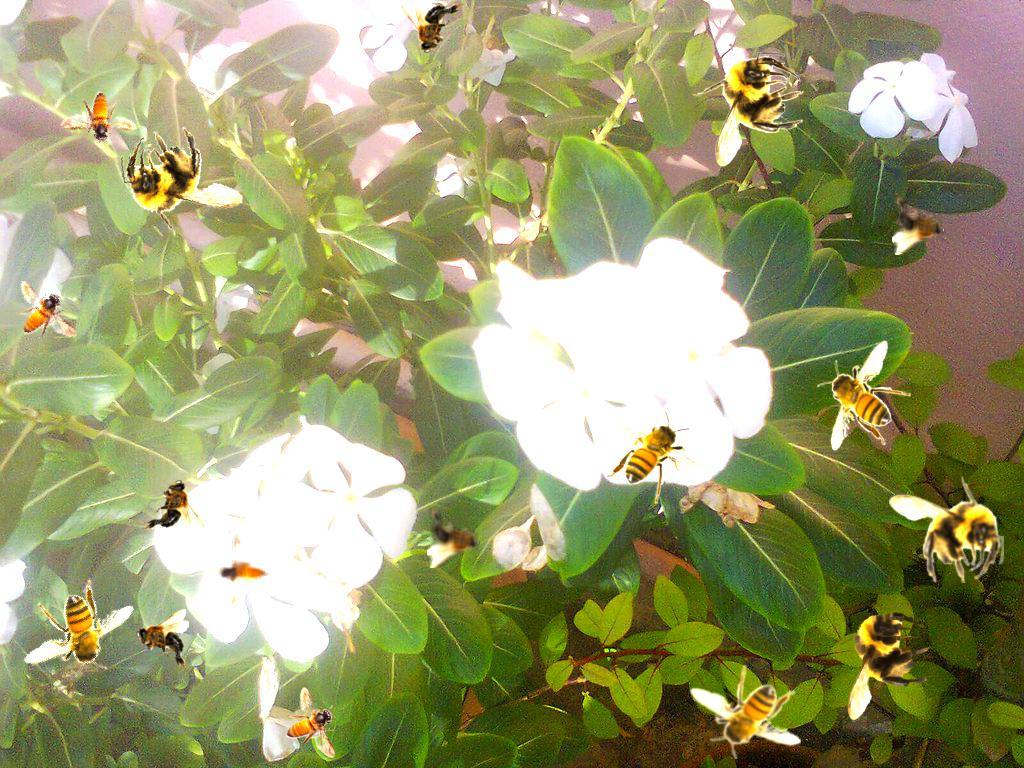Bee: (4, 559, 147, 705), (115, 117, 248, 244), (889, 476, 1004, 583), (697, 52, 804, 167), (828, 607, 935, 722), (600, 410, 711, 504), (817, 340, 911, 451), (690, 665, 801, 759), (202, 531, 280, 618), (59, 81, 145, 158), (5, 269, 79, 354), (286, 687, 336, 758), (136, 609, 189, 671), (427, 506, 480, 568), (142, 480, 204, 533), (402, 0, 464, 53), (892, 193, 945, 255)
